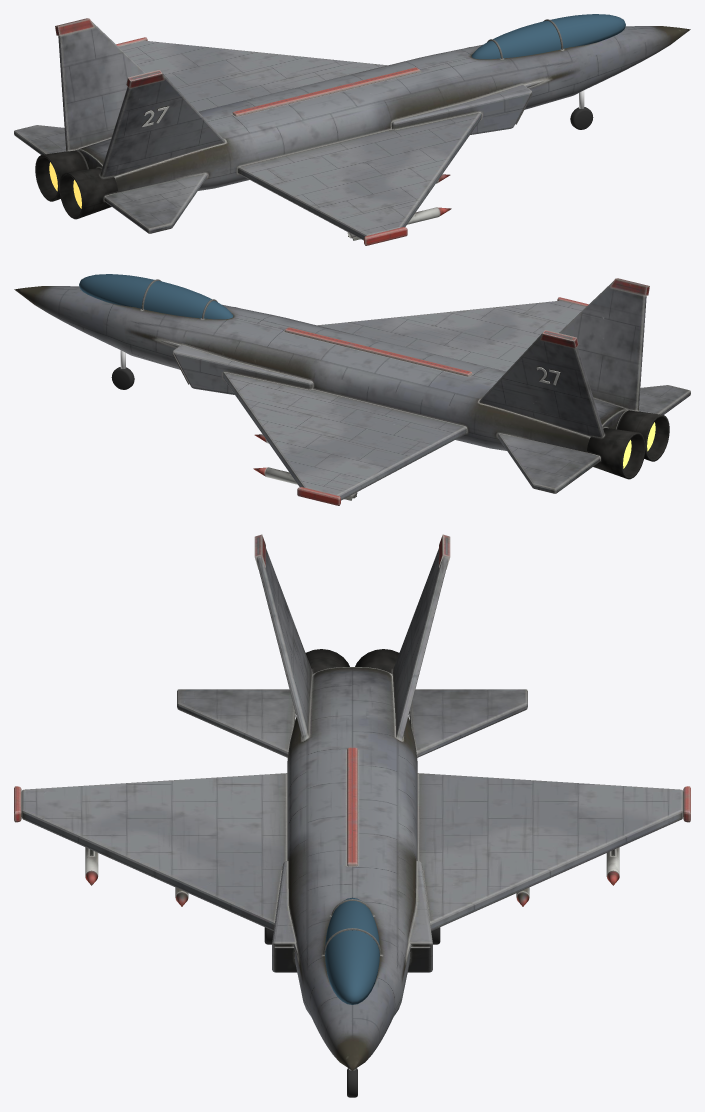
The model's file is rjet.glb.
3 views of the same model, one above another, from view 1: azimuth 30°, elevation 25°; view 2: azimuth 150°, elevation 25°; view 3: azimuth 270°, elevation 25° (orthographic). The views are drawn at different scales.
Visible parts, largest first — view 1: jet, canopy, gear; view 2: jet, canopy, gear; view 3: jet, canopy.
Boxes of the visible parts, x1=… form: jet: x1=14, y1=18, x2=690, y2=245; canopy: x1=471, y1=14, x2=625, y2=59; gear: x1=570, y1=90, x2=593, y2=129; jet: x1=14, y1=278, x2=690, y2=505; canopy: x1=79, y1=274, x2=233, y2=319; gear: x1=111, y1=350, x2=134, y2=389; jet: x1=14, y1=534, x2=690, y2=1070; canopy: x1=325, y1=897, x2=379, y2=1004.
Size of the model in its own units: 18.81 by 5.65 by 13.5.
Materials: 7 (1 with a texture image).
